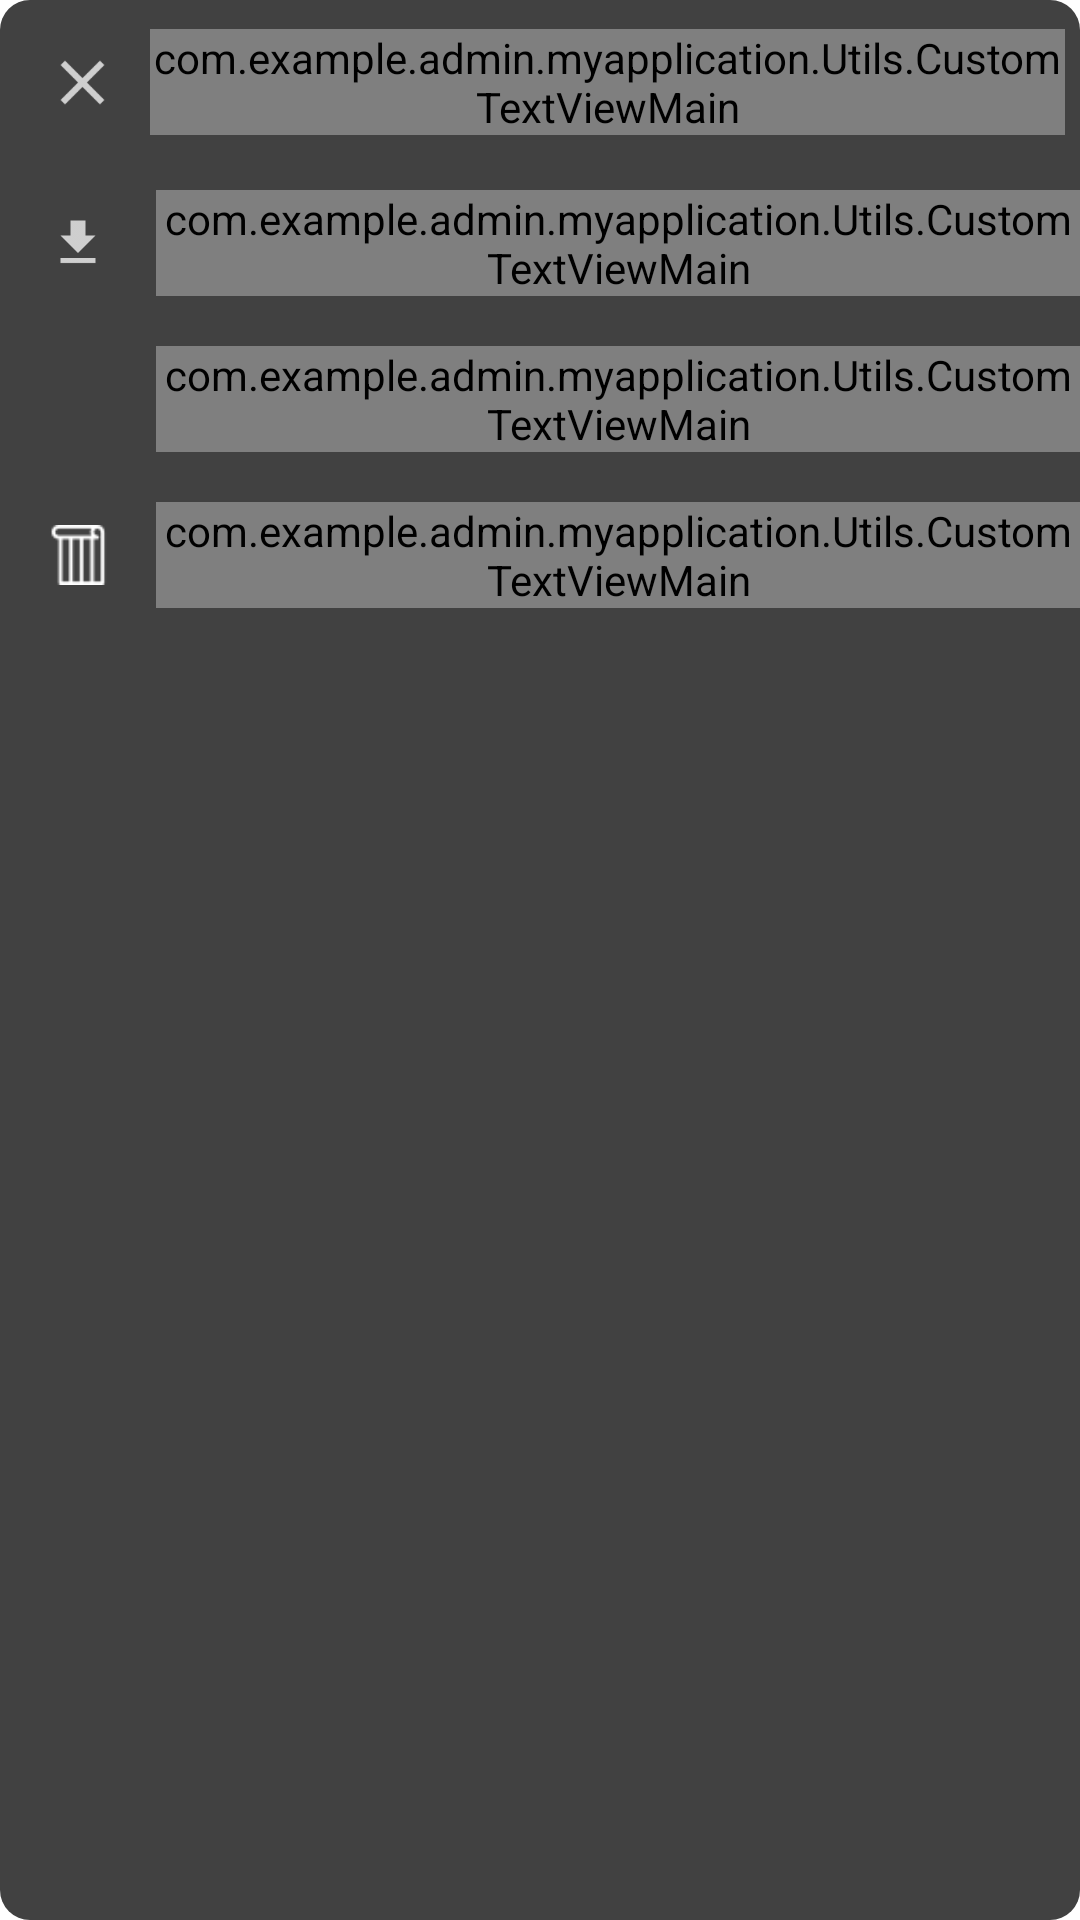

Where icons sit on this 1080x1920 app screen, as [x1,y1,x2,y2]:
close primarycolor: [61,61,104,104]
download primarycolor: [60,220,96,263]
